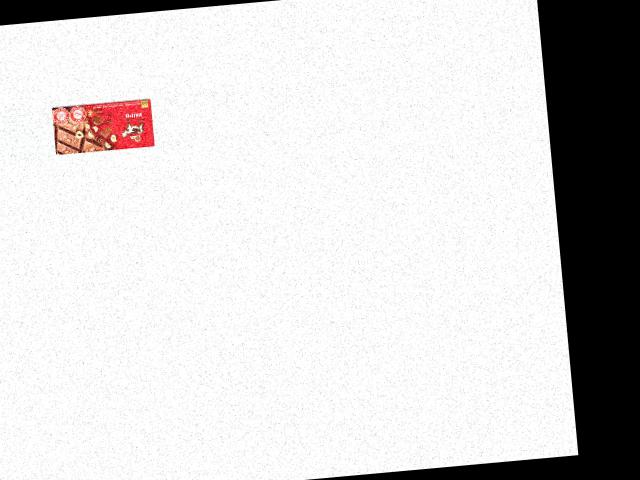chocolate: (51, 97, 155, 155)
